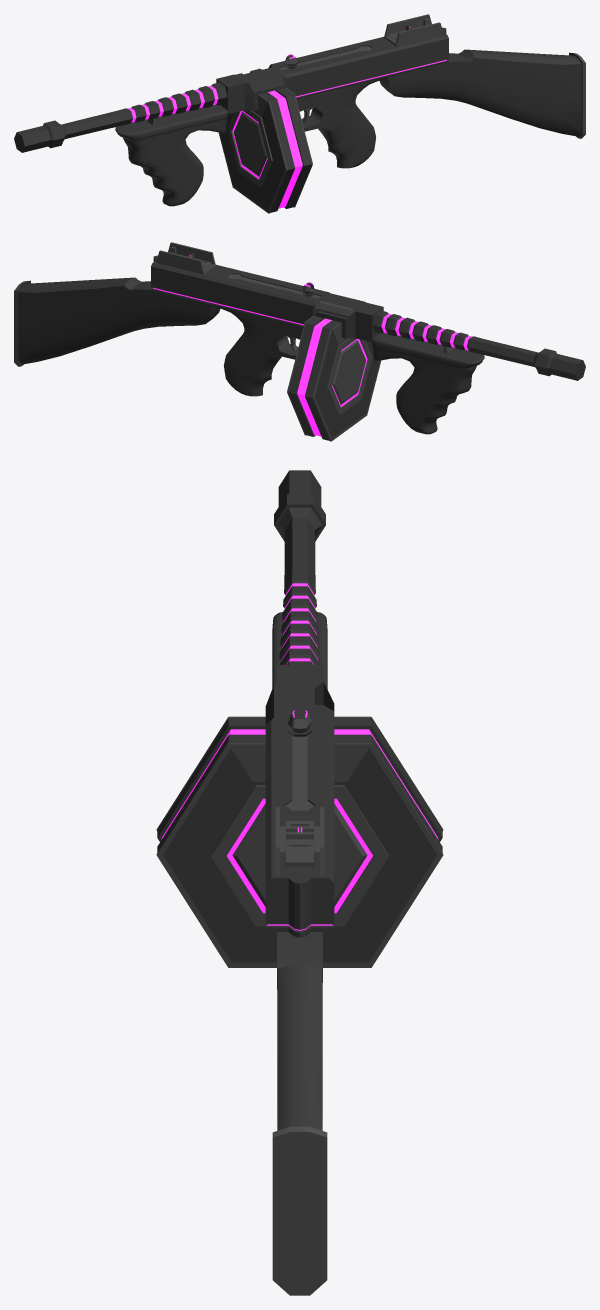
The model's file is TommyGun.fbx.
The picture shows the model from 3 angles, top to bottom: view 1: azimuth 30°, elevation 25°; view 2: azimuth 150°, elevation 25°; view 3: azimuth 270°, elevation 25°; orthographic projection. The views are drawn at different scales.
Visible parts, largest first — view 1: Handle_back, Ammo, Base, Handle_Front, Barrel, Handle_Mid, Aim, Moving_thingy; view 2: Handle_back, Ammo, Base, Handle_Front, Barrel, Handle_Mid, Aim, Inner_Barrel, Moving_thingy; view 3: Ammo, Handle_back, Base, Barrel, Aim, Moving_thingy, Handle_Front.
Part boxes in pixels (left/top/right/bottom): Handle_back: left=379, top=49, right=585, bottom=138; Ammo: left=218, top=68, right=312, bottom=213; Base: left=216, top=27, right=448, bottom=114; Handle_Front: left=115, top=105, right=227, bottom=206; Barrel: left=14, top=82, right=227, bottom=152; Handle_Mid: left=296, top=77, right=387, bottom=168; Aim: left=384, top=14, right=443, bottom=46; Moving_thingy: left=279, top=46, right=372, bottom=70; Handle_back: left=14, top=277, right=220, bottom=366; Ammo: left=287, top=315, right=381, bottom=441; Base: left=151, top=255, right=383, bottom=342; Handle_Front: left=372, top=333, right=484, bottom=434; Barrel: left=372, top=310, right=585, bottom=380; Handle_Mid: left=212, top=305, right=303, bottom=396; Aim: left=156, top=242, right=215, bottom=274; Inner_Barrel: left=316, top=301, right=354, bottom=317; Moving_thingy: left=227, top=274, right=320, bottom=298; Ammo: left=156, top=716, right=443, bottom=967; Handle_back: left=272, top=932, right=327, bottom=1295; Base: left=265, top=665, right=334, bottom=937; Barrel: left=274, top=470, right=325, bottom=664; Aim: left=275, top=807, right=324, bottom=875; Moving_thingy: left=286, top=735, right=313, bottom=810; Handle_Front: left=272, top=612, right=327, bottom=689.
Size of the model in its own units: 405 by 106 by 89.82.
